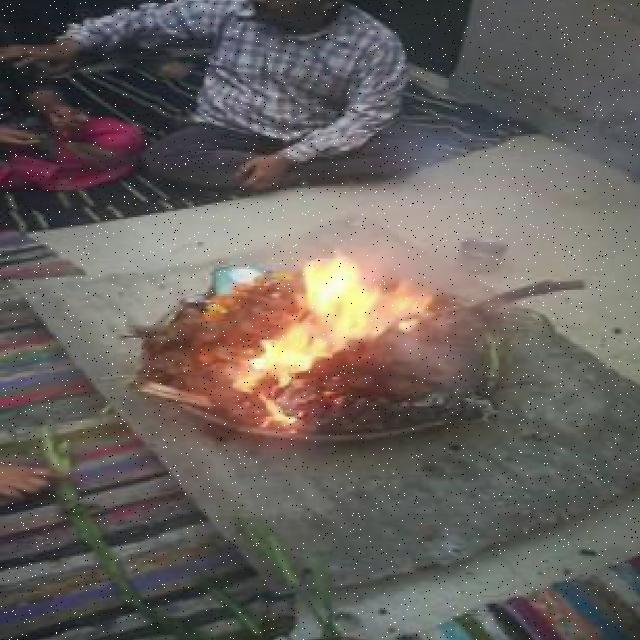fire: (268, 256, 399, 388)
smoke: (384, 294, 532, 392)
